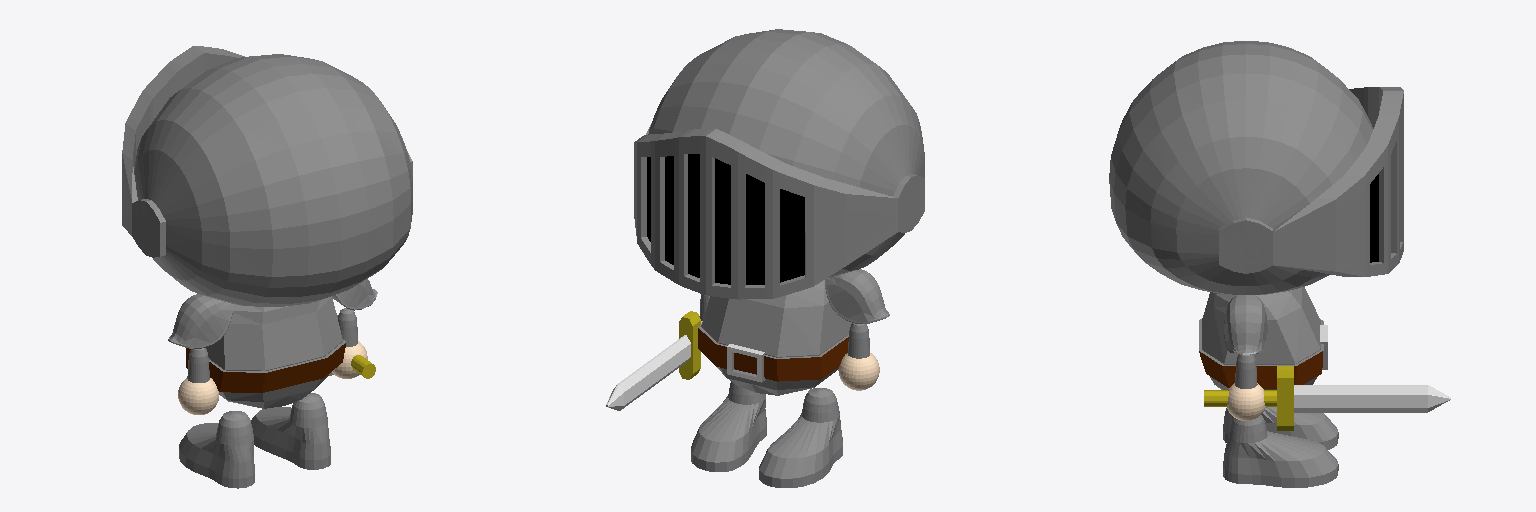
3 renders of one model, left to right at view 1: azimuth 30°, elevation 25°; view 2: azimuth 150°, elevation 25°; view 3: azimuth 270°, elevation 25°, orthographic.
Parts seen in each view (by area): view 1: 頭_立方体; view 2: 頭_立方体; view 3: 頭_立方体.
Boxes of the visible parts, <box> form: 頭_立方体: <box>122,46,412,488</box>; 頭_立方体: <box>606,29,924,487</box>; 頭_立方体: <box>1109,41,1450,487</box>.
Bounding box in the file's own units: 4.32 × 6.55 × 5.03.
Materials: 1 (1 with a texture image).